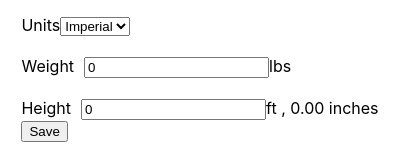
Test: App › should recalculate if unit changes
The width and height of the screenshot is (400, 160).
Replace the text in the number field labelled "Weight" with "5". click: (177, 67)
box: [84,56,269,78]
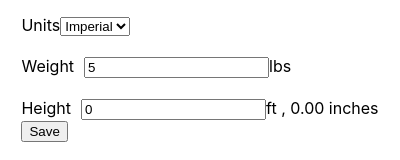
Replace the text in the number field labelled "Height" with "4". click: (174, 109)
box: [81,98,266,120]
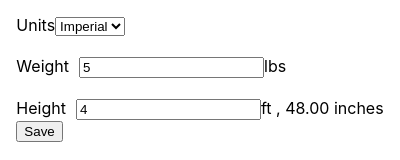
Result: the text ", 48.00 inches" is shown at [272,98,384,118]
Note: imperial to metric
Select "Metric" in the dropdown labelled "Units". click: (90, 26)
box: [55,16,125,36]
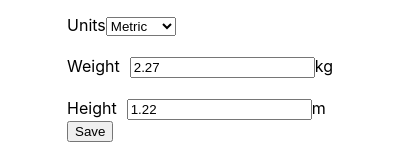
Result: the text "kg" is shown at [315,56,333,76]
Result: the text "m" is shown at [312,98,326,118]
Result: the number field labelled "Weight" holds "2.27" at [130,56,315,78]
Note: metric to imperial
Select "Imperial" in the dropdown labelled "Units". click: (141, 26)
box: [106,16,176,36]
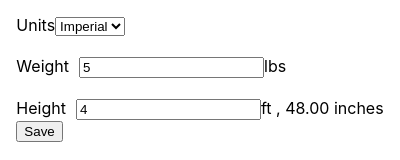
Result: the text "lbs" is shown at [264,56,286,76]
Result: the text "ft" is shown at [261,98,272,118]
